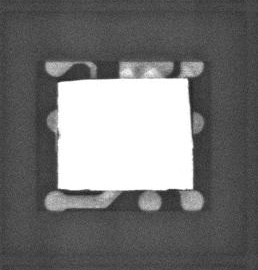DIE_BROKEN: (186, 78, 193, 147), (57, 78, 97, 83), (58, 188, 104, 192)
